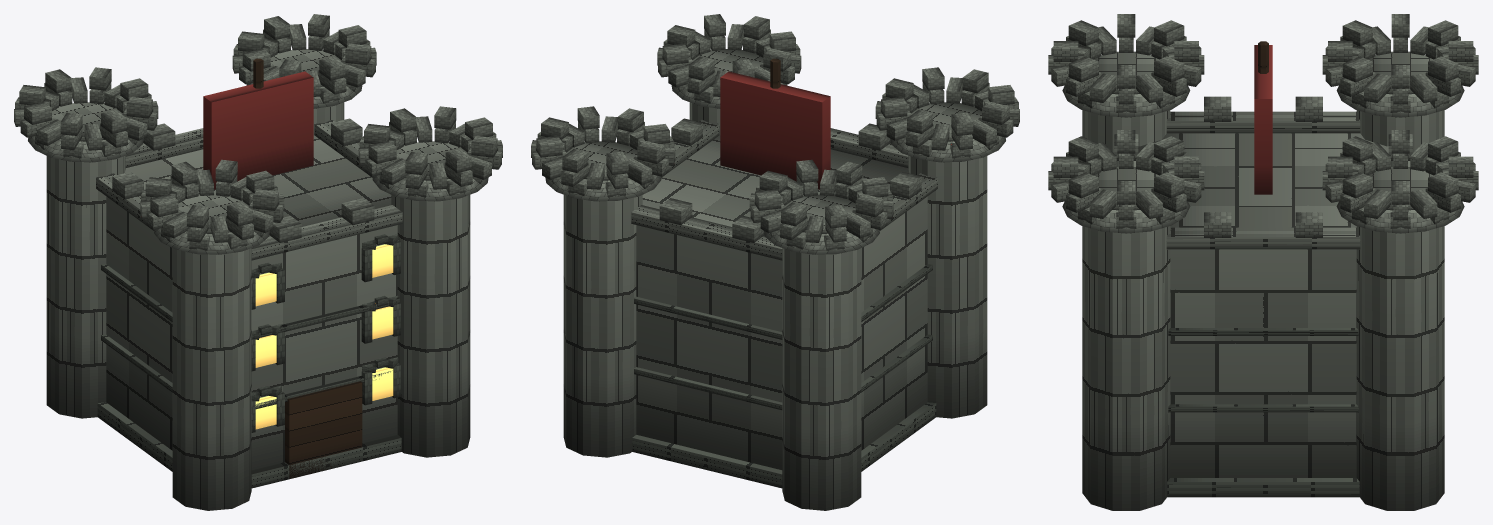
File: keep_dark.gltf
The picture shows the model from 3 angles, left to right: view 1: azimuth 30°, elevation 25°; view 2: azimuth 150°, elevation 25°; view 3: azimuth 270°, elevation 25°; orthographic projection. The views are drawn at different scales.
Parts seen in each view (by area): view 1: keep_dark; view 2: keep_dark; view 3: keep_dark.
Part boxes in pixels (bbox=[...]): keep_dark: bbox=[14, 14, 502, 510]; keep_dark: bbox=[531, 14, 1019, 510]; keep_dark: bbox=[1048, 14, 1478, 510].
Size of the model in its own units: 1.57 by 1.58 by 1.57.
Materials: 1 (1 with a texture image).
